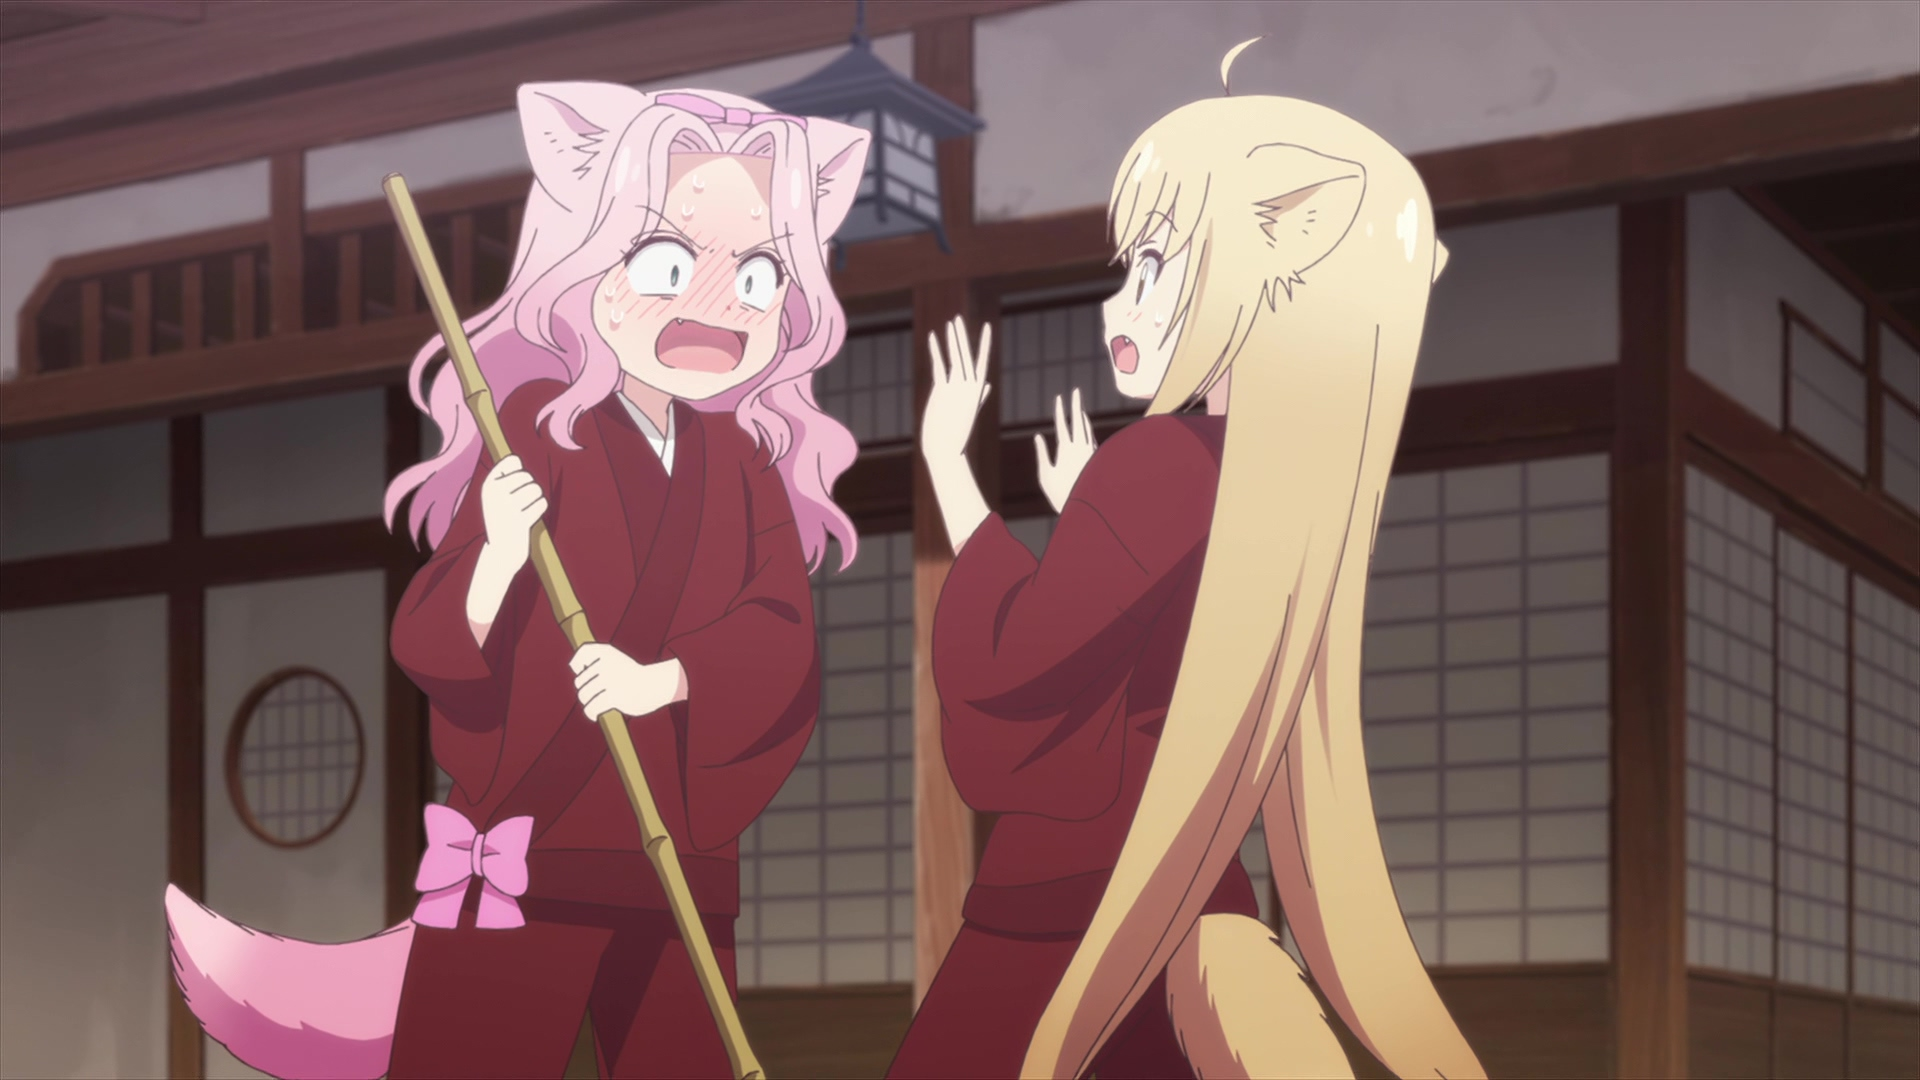柚: (890, 37, 1489, 1080)
莲: (166, 80, 872, 1080)
